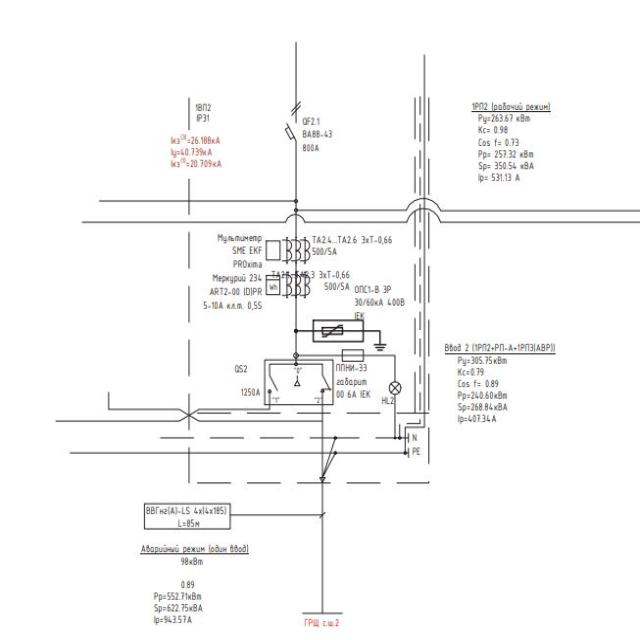-: (200, 271, 263, 311), (352, 283, 408, 321), (312, 233, 392, 258), (216, 232, 264, 269), (335, 362, 372, 399), (300, 127, 334, 153), (317, 268, 350, 292), (194, 101, 213, 122), (240, 387, 261, 399)
FU: (340, 348, 366, 363)
HL: (389, 380, 403, 396)
OPS: (311, 318, 367, 342)
PM: (265, 239, 281, 261)
QF: (284, 99, 302, 144)
TT: (281, 270, 313, 301), (281, 235, 312, 265)
WH: (264, 273, 281, 296)
switch: (267, 373, 332, 395)
